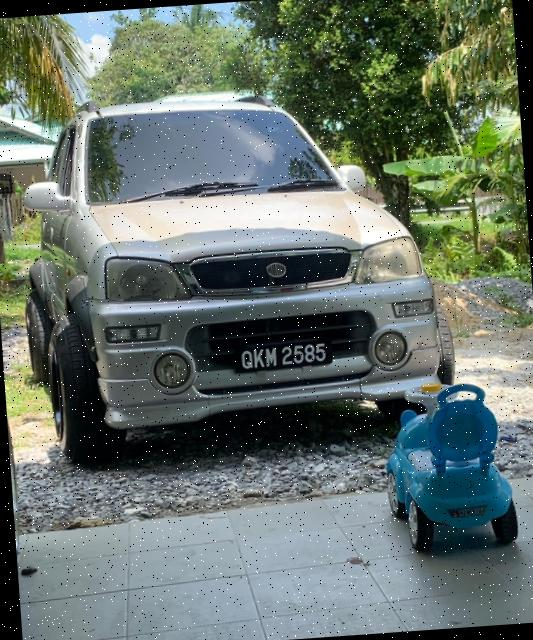License_Plate: (235, 337, 334, 373)
car: (10, 75, 476, 462)
